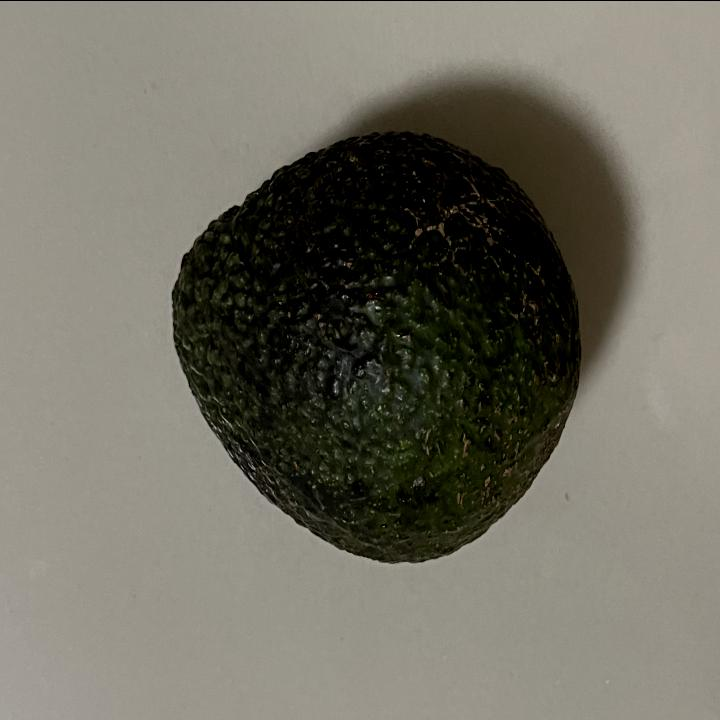Level1: (158, 116, 596, 582)
